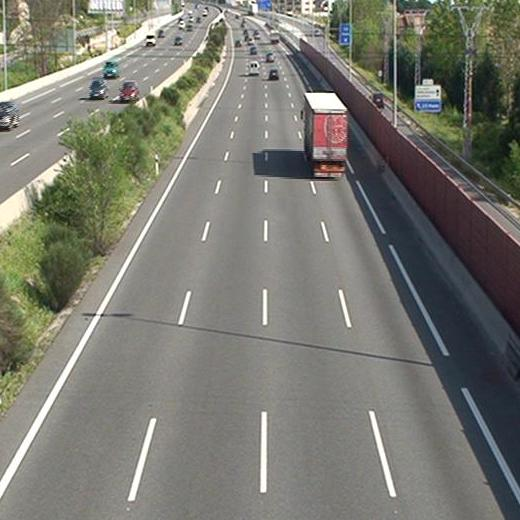car: (268, 70, 278, 79), (266, 54, 274, 62), (249, 47, 255, 55)
truck: (303, 92, 347, 176)
van: (248, 61, 259, 74)
